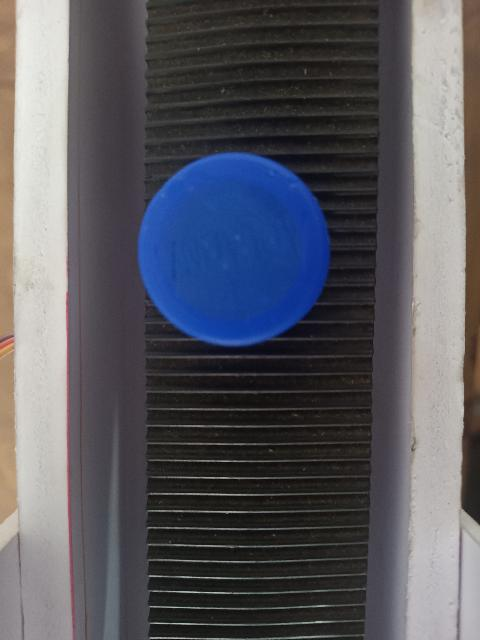bottlecap: (135, 150, 333, 346)
